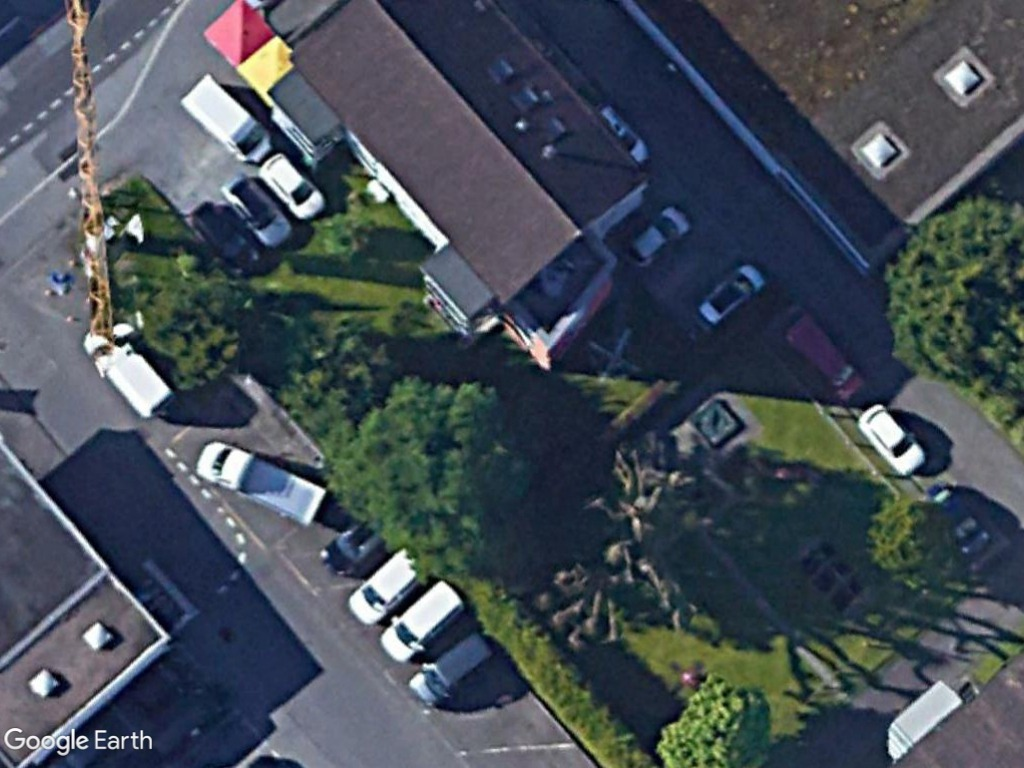car: (850, 399, 931, 481), (695, 261, 768, 329), (256, 152, 329, 219), (620, 205, 692, 271)
others: (190, 438, 330, 527)
truck: (171, 67, 277, 167)
van: (377, 578, 466, 666), (408, 630, 498, 708), (343, 546, 427, 628)
